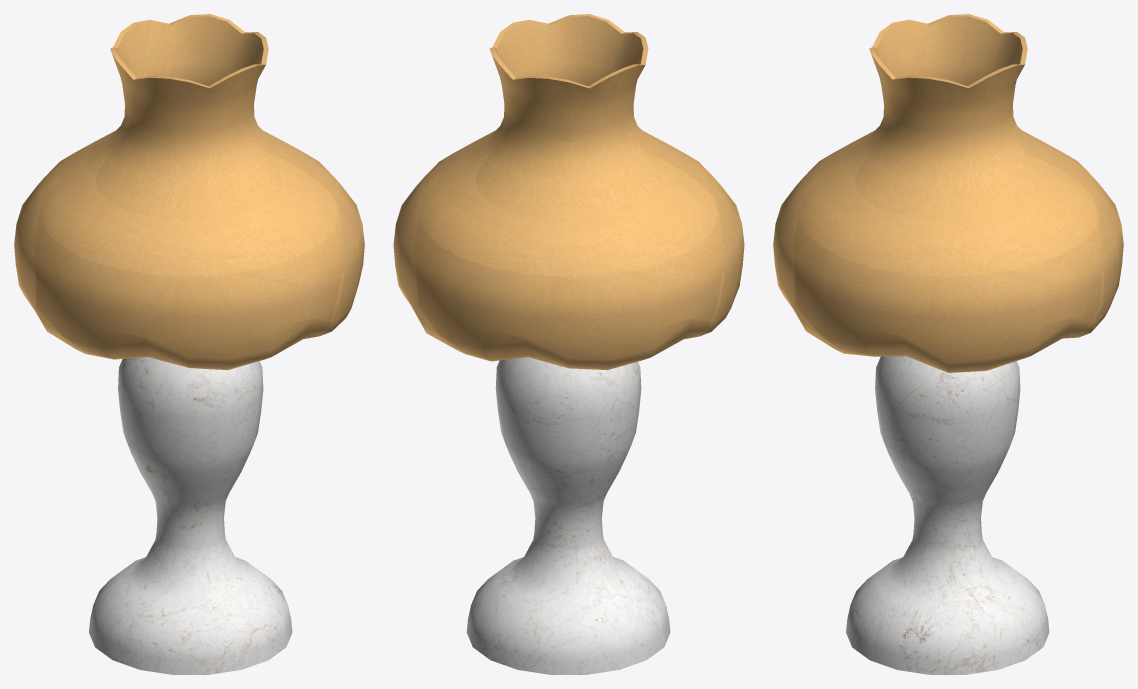
Rendered from Lampara de mesa.fbx.
The picture shows the model from 3 angles, left to right: view 1: azimuth 30°, elevation 25°; view 2: azimuth 150°, elevation 25°; view 3: azimuth 270°, elevation 25°; orthographic projection.
Parts seen in each view (by area): view 1: Pantalla lampara, Base.001; view 2: Pantalla lampara, Base.001; view 3: Pantalla lampara, Base.001.
Part boxes in pixels (x1,y1,x2,y2): Pantalla lampara: (14,14,364,370); Base.001: (89,357,292,674); Pantalla lampara: (393,14,744,370); Base.001: (466,357,670,674); Pantalla lampara: (773,14,1123,372); Base.001: (846,356,1049,674).
Size of the model in its own units: 77.66 by 143 by 77.66.
2 materials, 2 textured.
